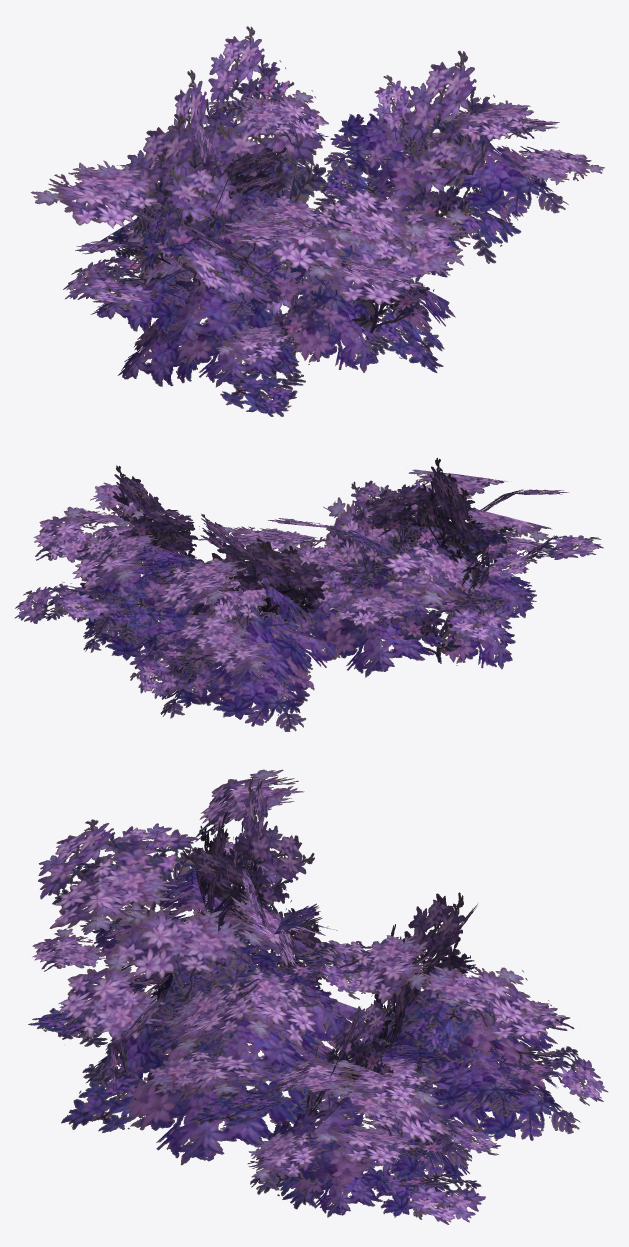
File: XSZY_tree7.fbx
The picture shows the model from 3 angles, top to bottom: view 1: azimuth 30°, elevation 25°; view 2: azimuth 150°, elevation 25°; view 3: azimuth 270°, elevation 25°; orthographic projection. The views are drawn at different scales.
Visible parts, largest first — view 1: XSZY_tree9; view 2: XSZY_tree9; view 3: XSZY_tree9.
Part boxes in pixels (x1,y1,x2,y2): XSZY_tree9: (30, 26, 604, 416); XSZY_tree9: (14, 457, 603, 731); XSZY_tree9: (28, 769, 608, 1224).
Bounding box in the file's own units: 1.03 × 0.4427 × 0.8459.
1 material, 1 textured.
